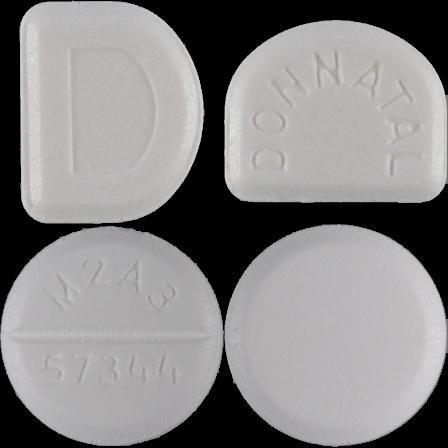66213-425: (0, 0, 224, 224)
